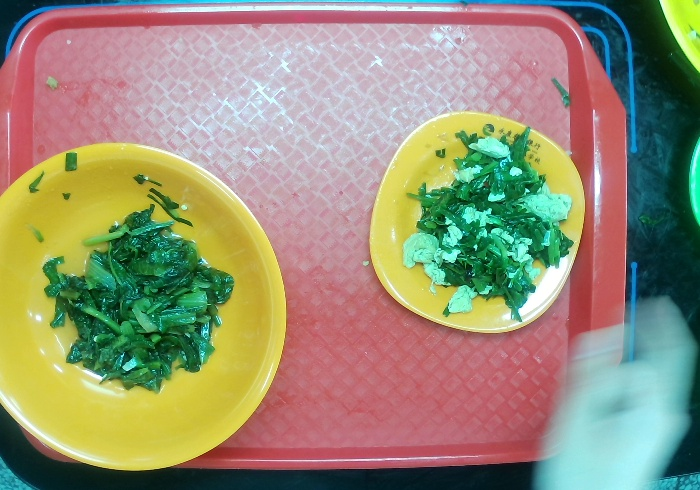YKMZ-Ju_Se_Fang_Die: (360, 107, 590, 340)
YKMZ-Ju_Se_Tang_Wan: (1, 138, 318, 474)
